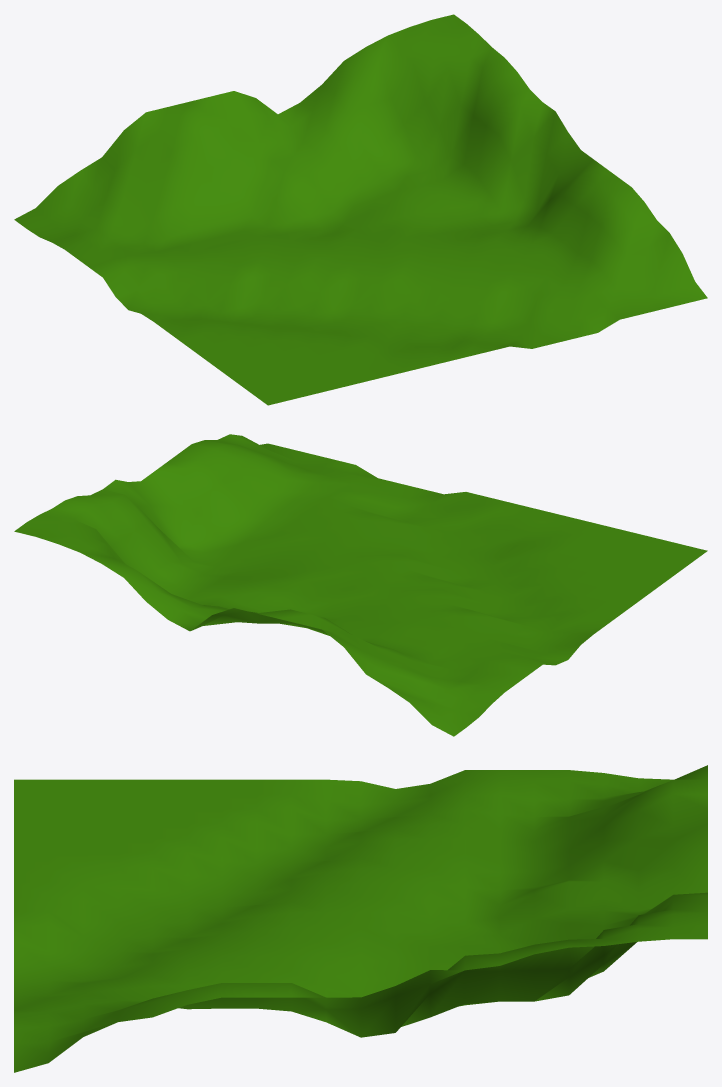
File: terrain.DAE
3 renders of one model, top to bottom at view 1: azimuth 30°, elevation 25°; view 2: azimuth 150°, elevation 25°; view 3: azimuth 270°, elevation 25°, orthographic. The views are drawn at different scales.
Visible parts, largest first — view 1: Plane003; view 2: Plane003; view 3: Plane003.
Boxes of the visible parts, bbox=[...] form: Plane003: bbox=[14, 14, 707, 405]; Plane003: bbox=[14, 434, 707, 736]; Plane003: bbox=[14, 765, 707, 1072].
Size of the model in its own units: 1024 by 235 by 1024.
